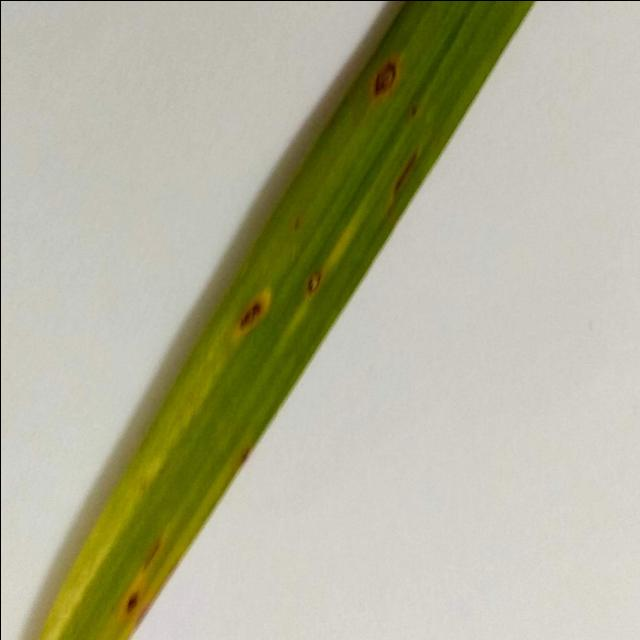Leaf_Blast: (365, 50, 406, 116), (235, 284, 272, 344), (122, 590, 152, 618)
